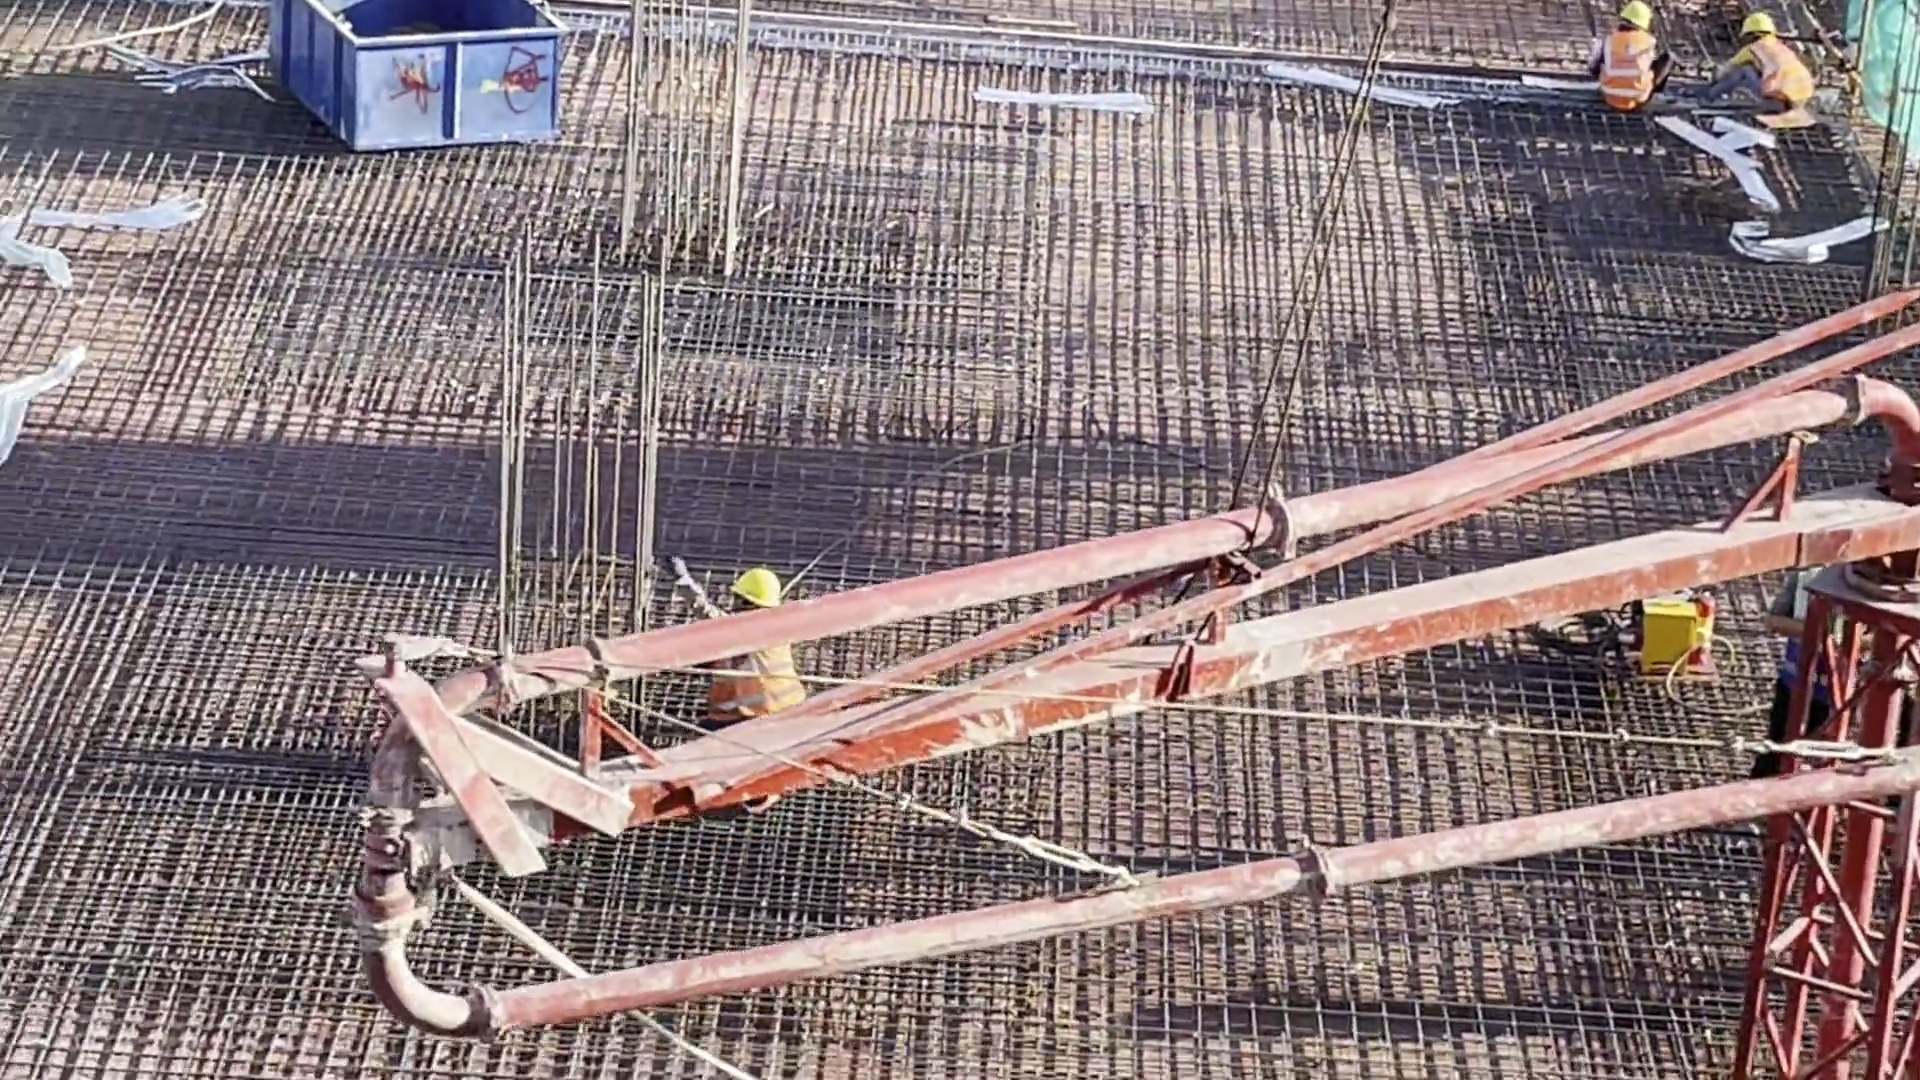helmet: (728, 567, 782, 611), (1619, 3, 1653, 29), (1735, 10, 1771, 32)
hopper: (275, 1, 555, 149)
person: (661, 555, 809, 717), (1691, 7, 1817, 111), (1583, 1, 1667, 127)
vest: (728, 651, 808, 721), (1746, 52, 1817, 114), (1603, 33, 1654, 106)
